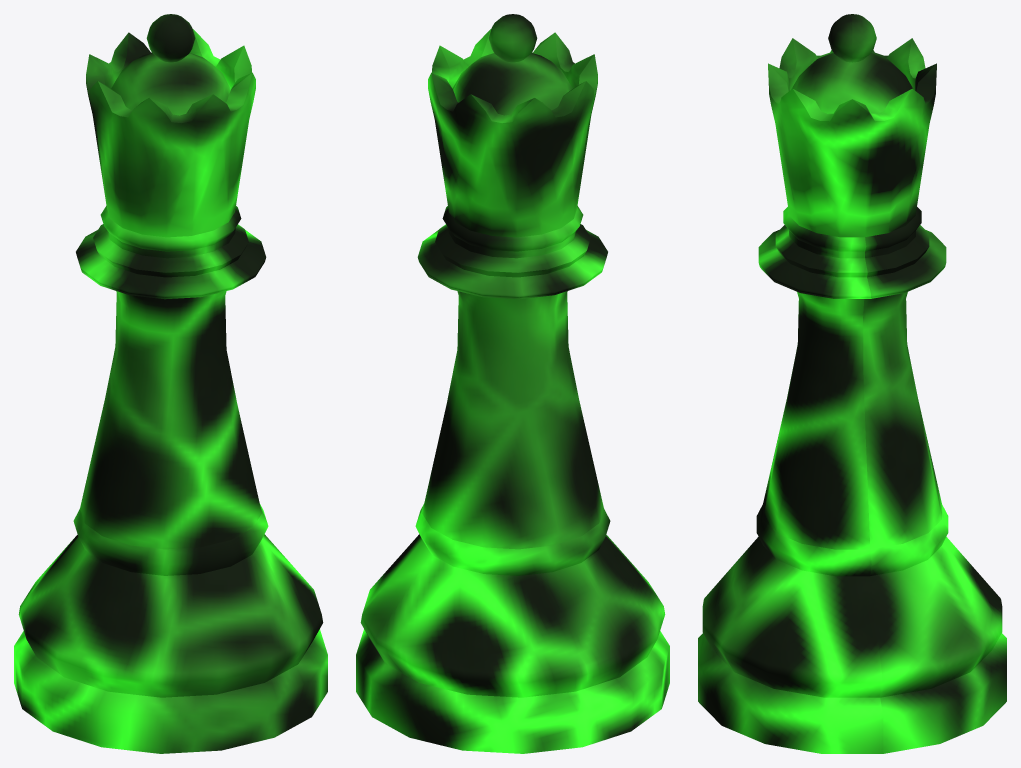
The model's file is item-4-8.glb.
3 renders of one model, left to right at view 1: azimuth 30°, elevation 25°; view 2: azimuth 150°, elevation 25°; view 3: azimuth 270°, elevation 25°, orthographic.
Visible parts, largest first — view 1: BlackQueen; view 2: BlackQueen; view 3: BlackQueen.
Part boxes in pixels (x1,y1,x2,y2): BlackQueen: (14, 14, 327, 753); BlackQueen: (356, 14, 669, 753); BlackQueen: (698, 14, 1006, 753).
Bounding box in the file's own units: 0.0968 × 0.2326 × 0.0968.
1 material, 1 textured.
